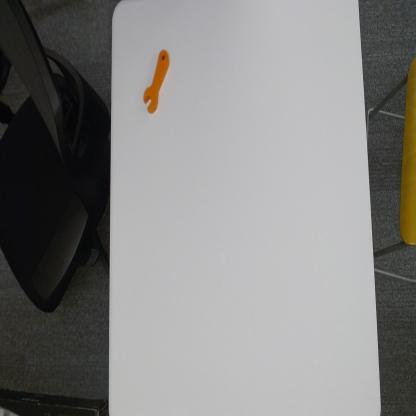Screwdriver: (142, 46, 171, 118)
